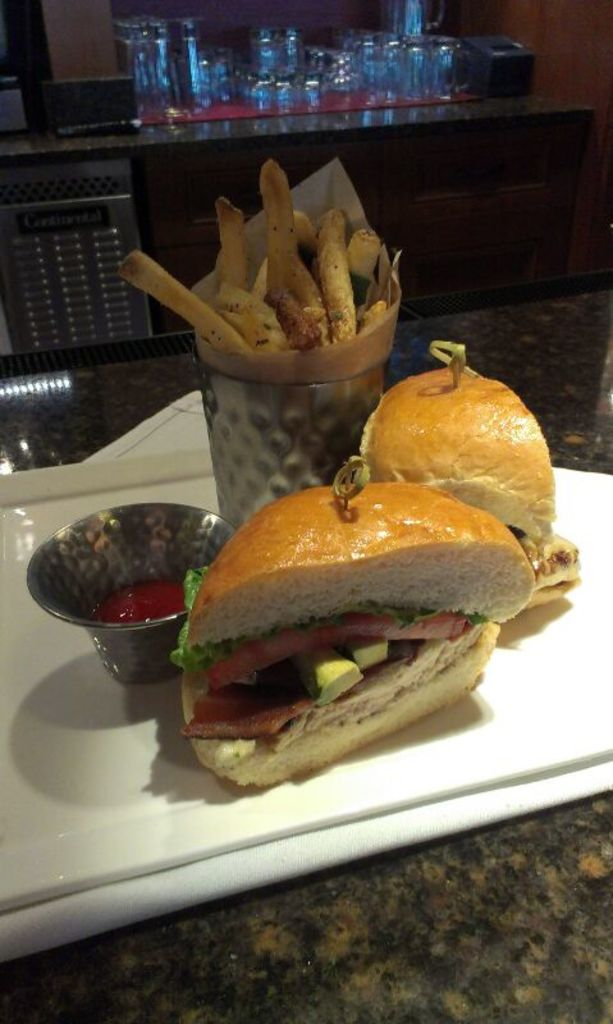French fries: (130, 172, 401, 369)
